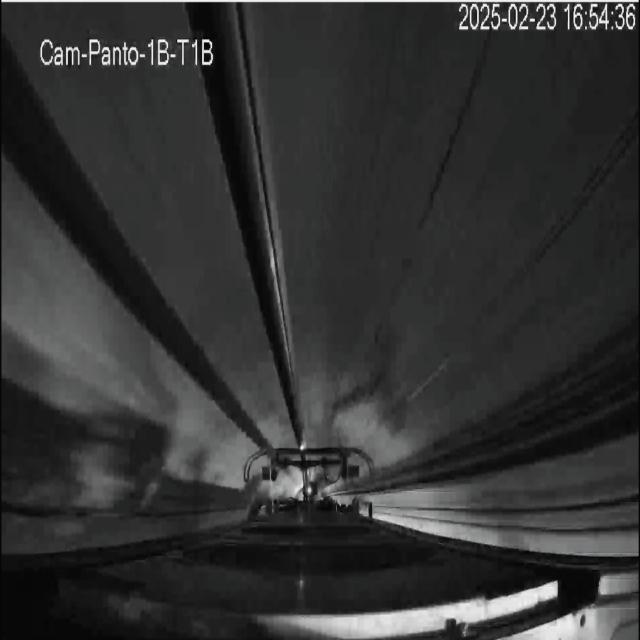Camera Stamp: (34, 27, 220, 72)
Date Stamp: (459, 3, 636, 33)
Sparks: (296, 435, 308, 458)
